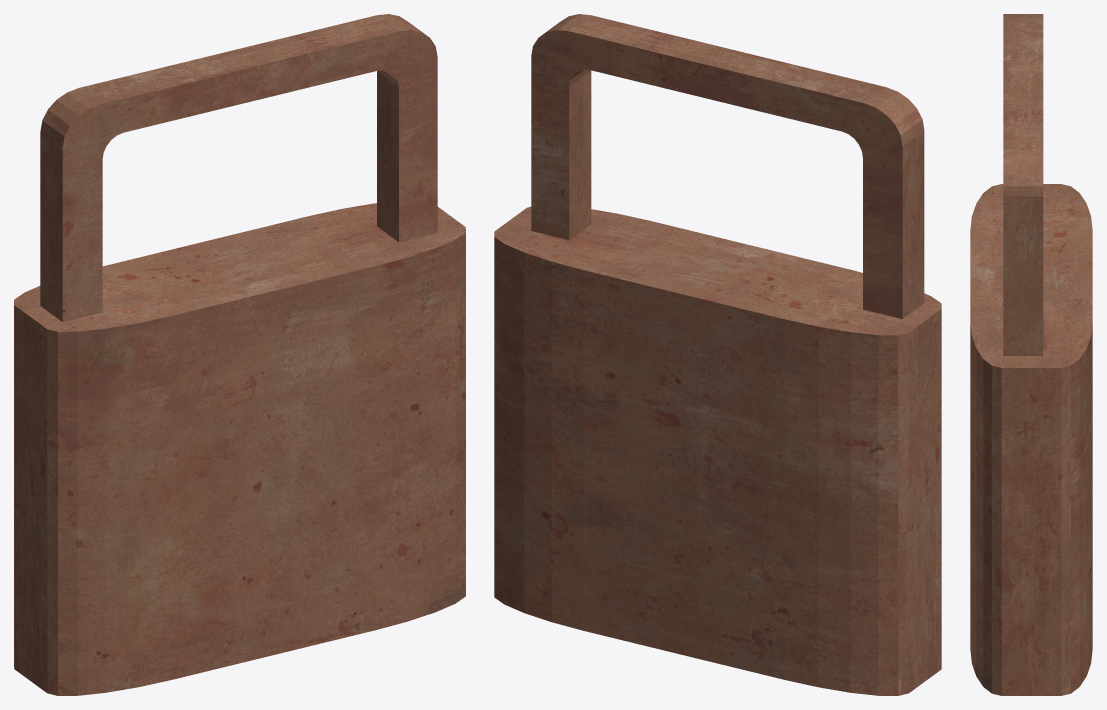
The model's file is Gembok.fbx.
3 views of the same model, side by side, from view 1: azimuth 30°, elevation 25°; view 2: azimuth 150°, elevation 25°; view 3: azimuth 270°, elevation 25° (orthographic). The views are drawn at different scales.
Visible parts, largest first — view 1: Gembok; view 2: Gembok; view 3: Gembok.
Boxes of the visible parts, x1,y1,x2,y2 form: Gembok: (14, 14, 465, 695); Gembok: (494, 14, 941, 695); Gembok: (970, 14, 1092, 695).
Size of the model in its own units: 29.93 by 39.3 by 8.42.
